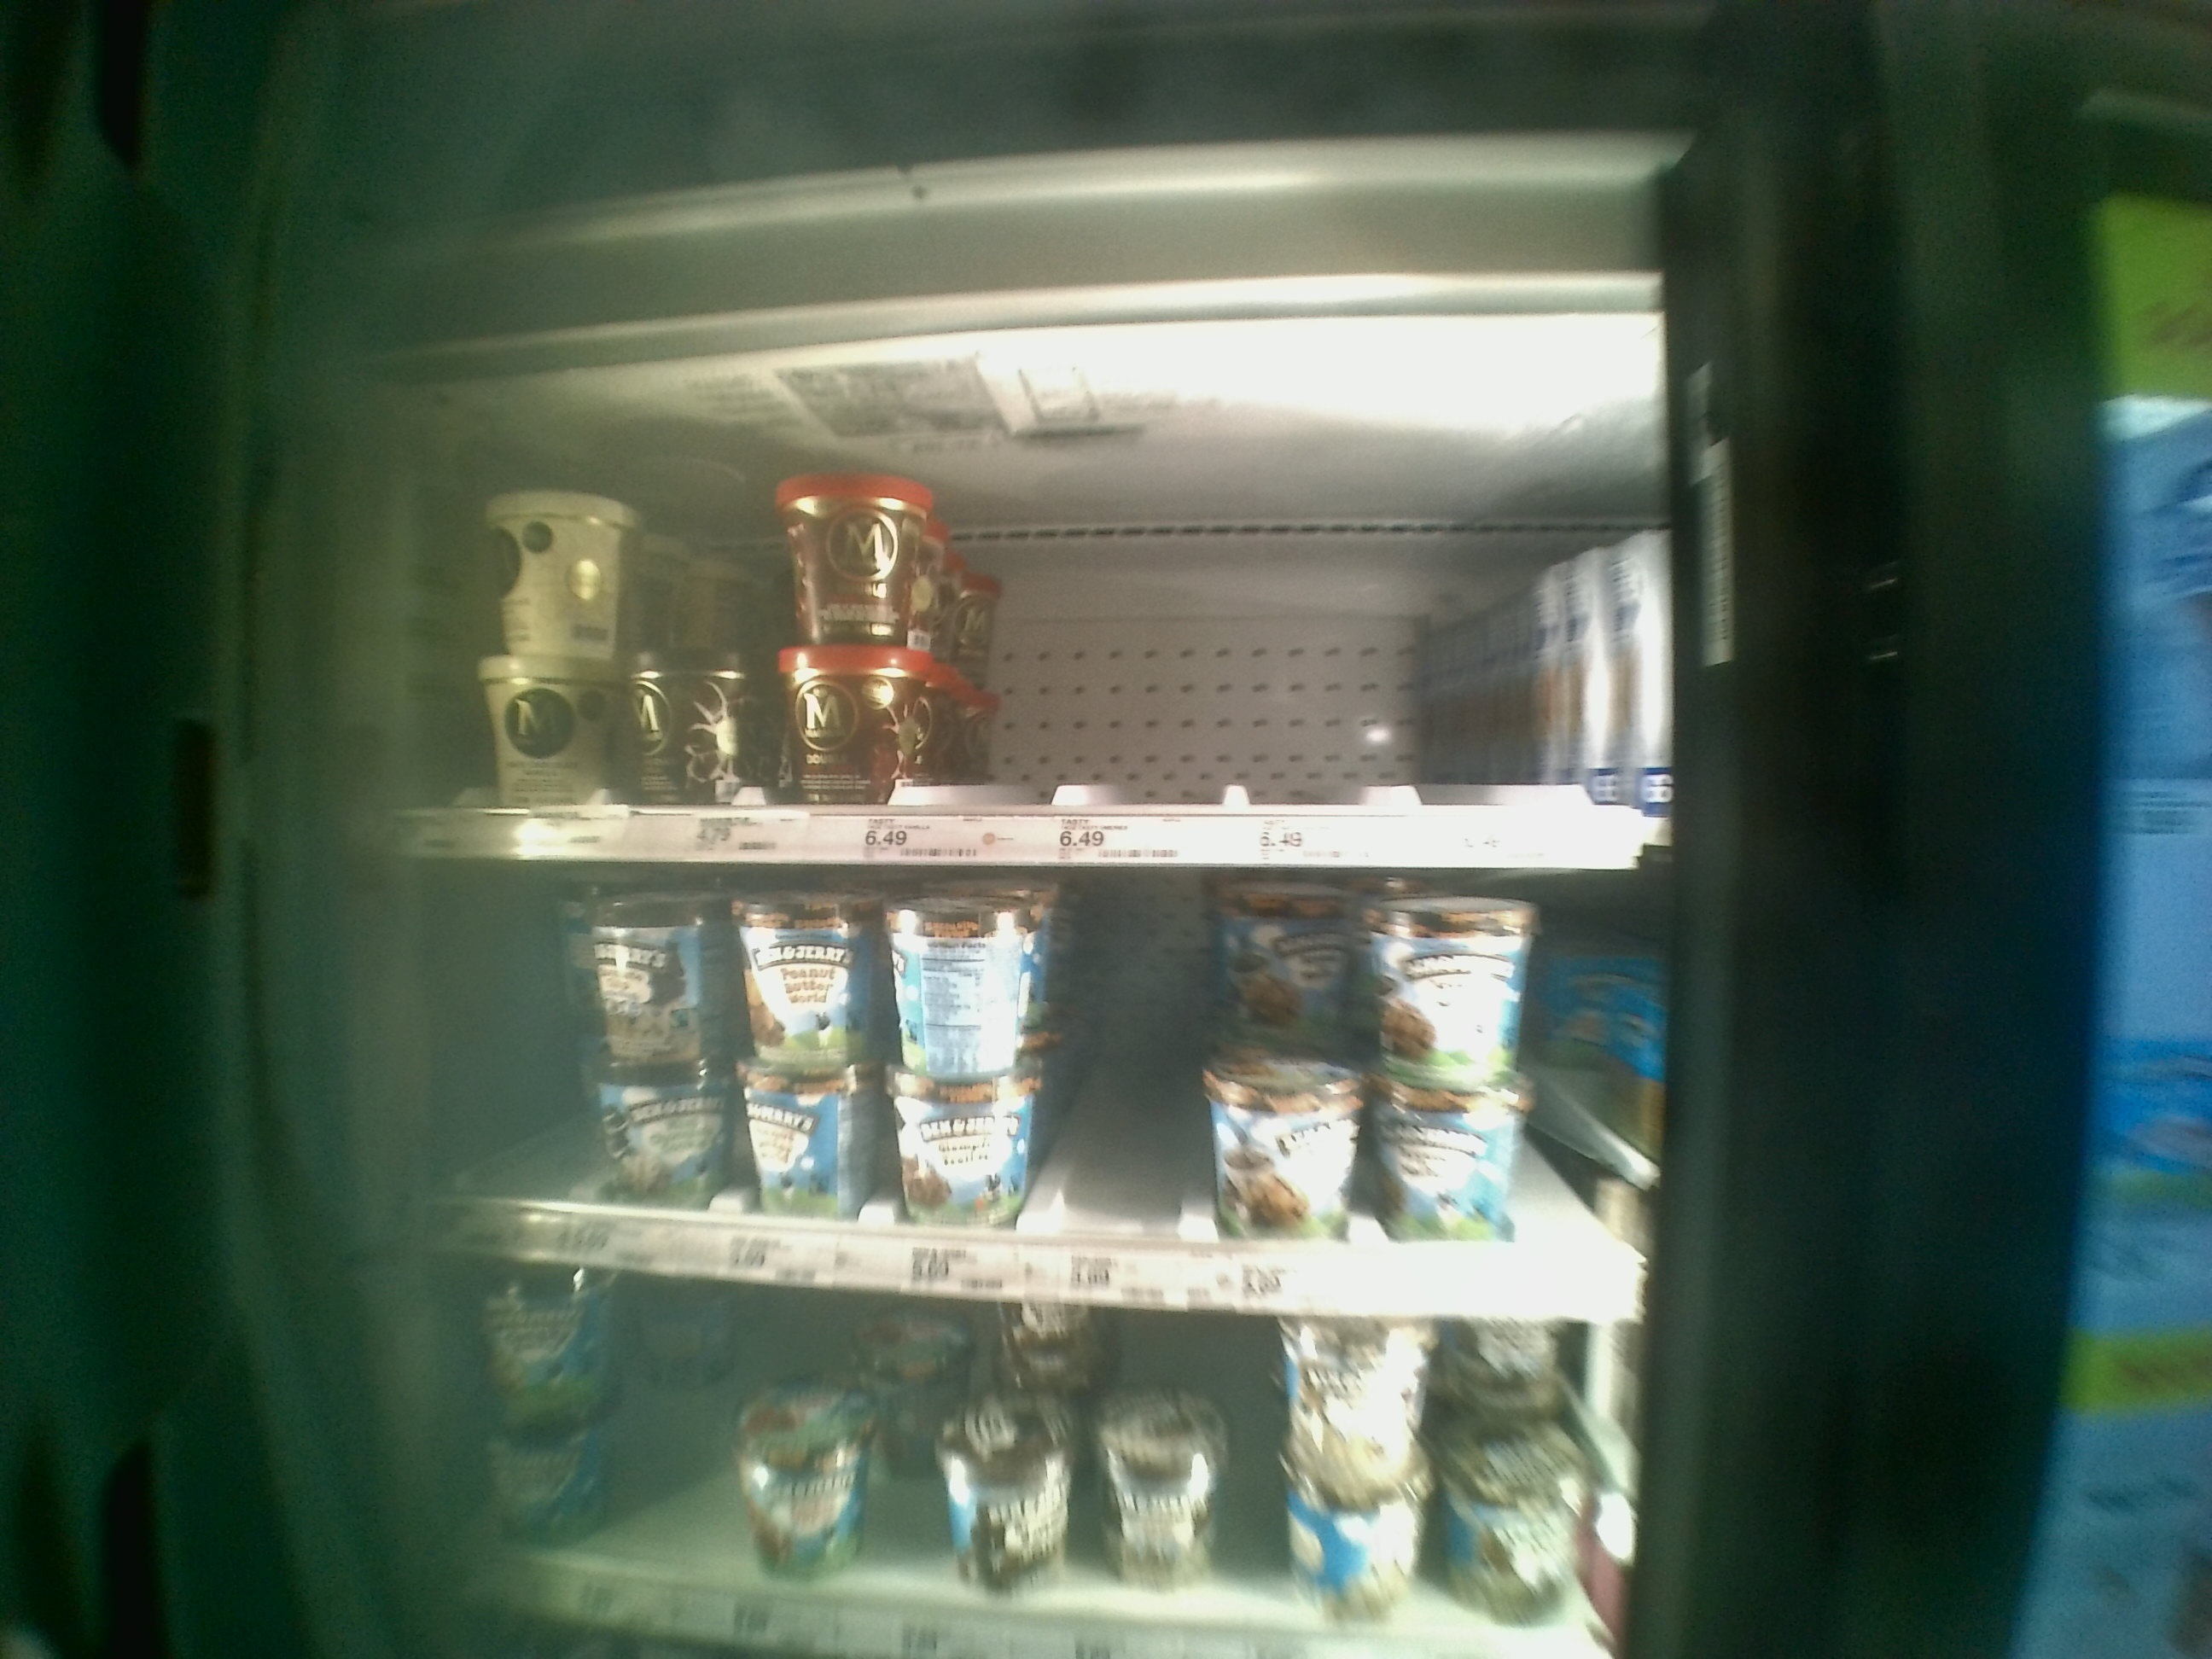ice-cream-shelf: (406, 382, 1655, 868), (404, 863, 1655, 1319)
